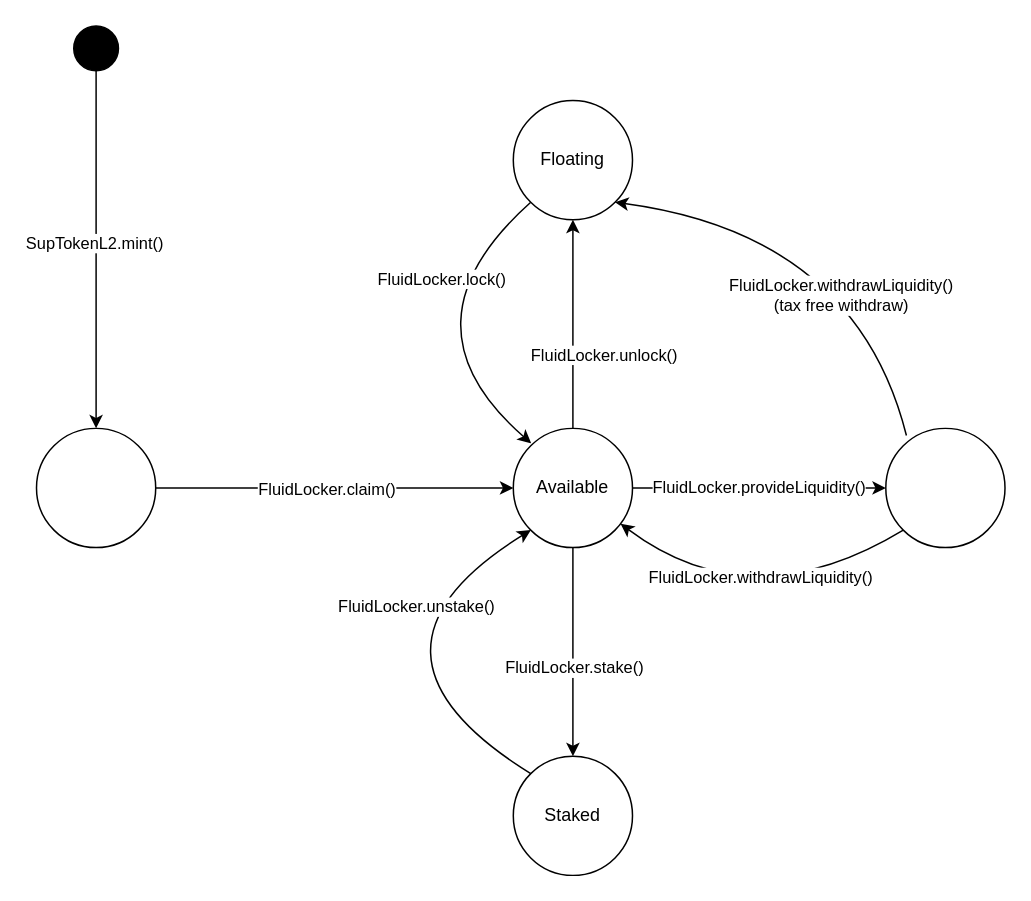
Image size: 1031x901. Some labels were removed from this diagram. Here are the shapes that lost their labels. From the top down, the box of each, then its label:
(35, 427, 156, 548): Minted
(884, 427, 1005, 548): LP'd
